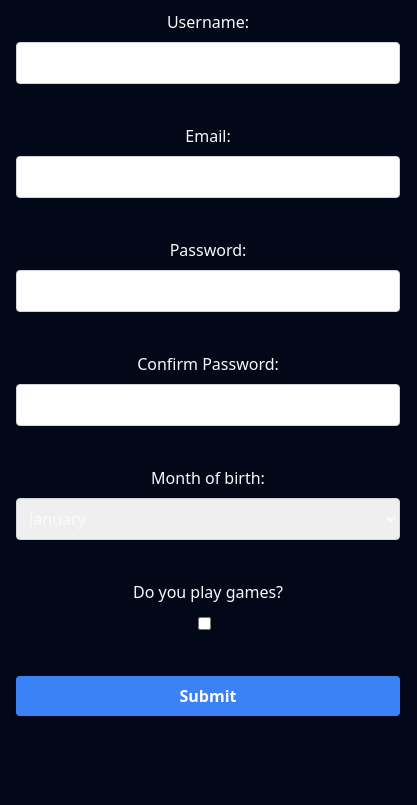
NakedForm Component › validates form and displays errors on submit
Note: Trigger form submission without filling in any fields
Click the button "Submit": click(208, 696) [16,676,400,716]
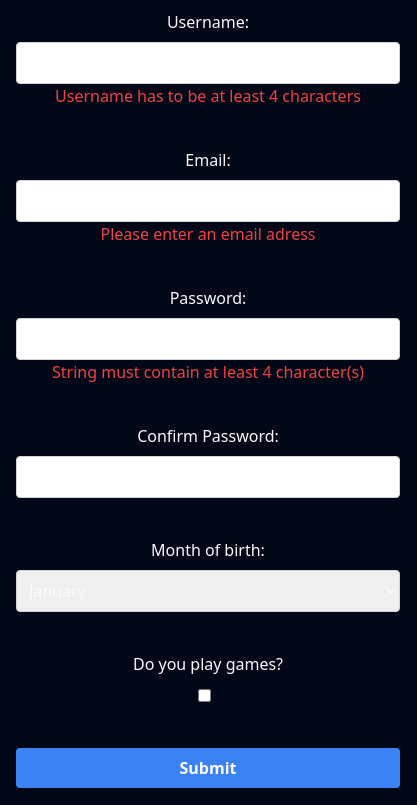
Expected: the text "Username has to be at least 4 characters" is shown, [55,85,361,107]
Expected: the text "Please enter an email adress" is shown, [100,223,316,245]
